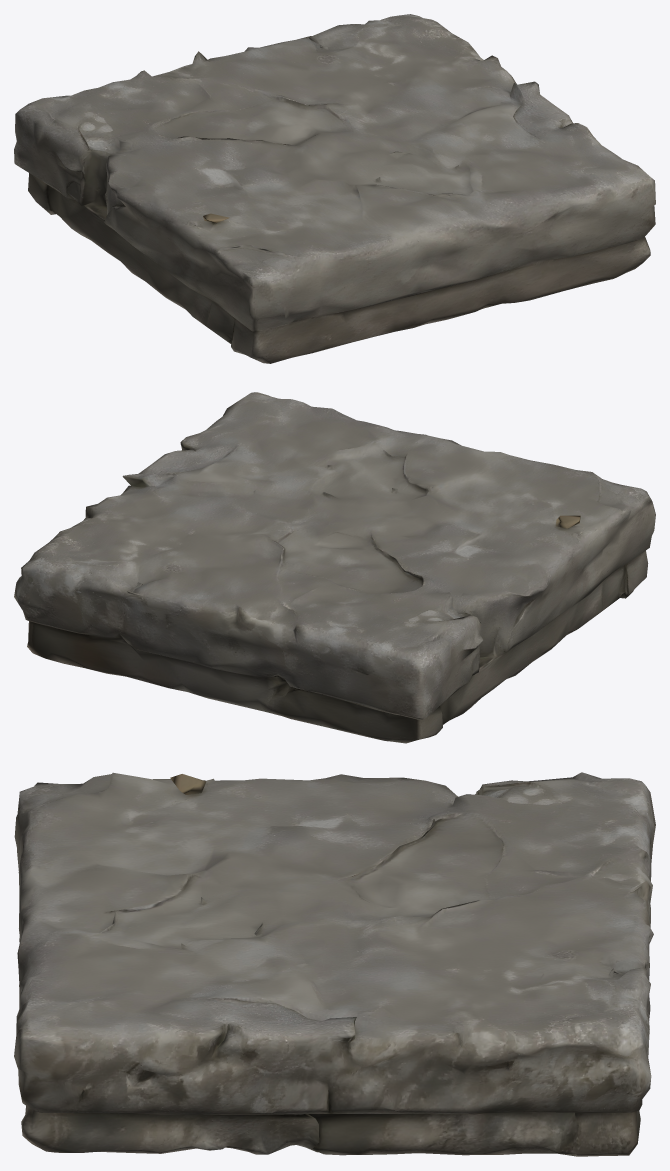
The model's file is floor_slab.glb.
3 views of the same model, one above another, from view 1: azimuth 30°, elevation 25°; view 2: azimuth 150°, elevation 25°; view 3: azimuth 270°, elevation 25° (orthographic). The views are drawn at different scales.
Visible parts, largest first — view 1: tripo_node_5fa452ca-9165-4b70-a006-06a3ffbbfa77; view 2: tripo_node_5fa452ca-9165-4b70-a006-06a3ffbbfa77; view 3: tripo_node_5fa452ca-9165-4b70-a006-06a3ffbbfa77.
Part boxes in pixels (x1,y1,x2,y2): tripo_node_5fa452ca-9165-4b70-a006-06a3ffbbfa77: [14, 14, 655, 363]; tripo_node_5fa452ca-9165-4b70-a006-06a3ffbbfa77: [14, 392, 655, 743]; tripo_node_5fa452ca-9165-4b70-a006-06a3ffbbfa77: [14, 772, 655, 1156].
Size of the model in its own units: 1 by 0.2436 by 0.9928.
1 material, 1 textured.
